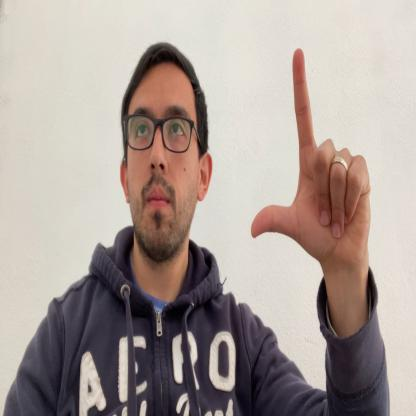L: (251, 48, 371, 268)
